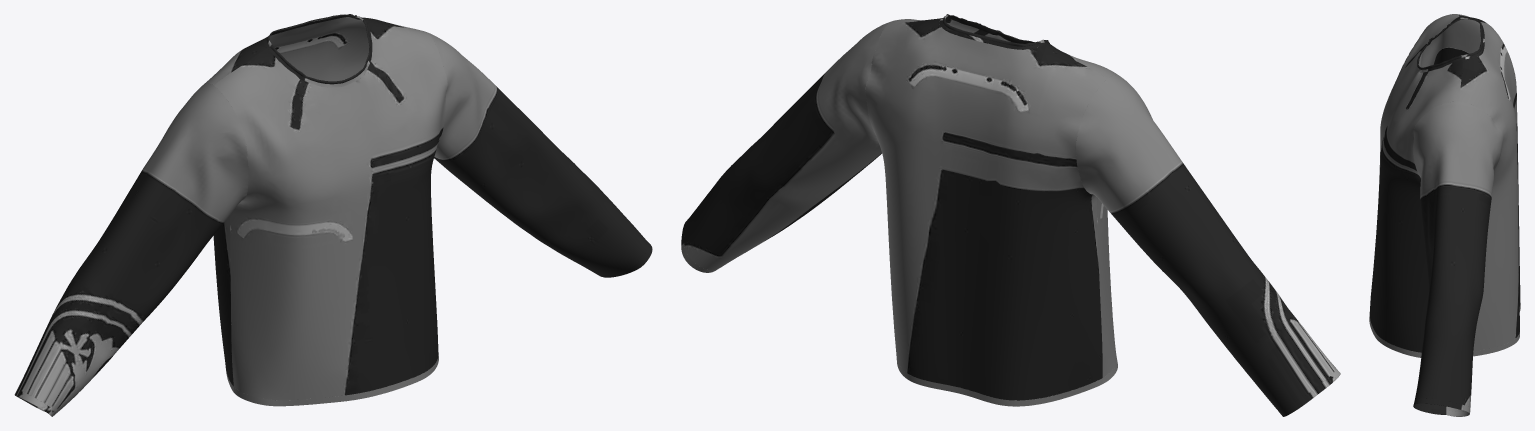
3 views of the same model, side by side, from view 1: azimuth 30°, elevation 25°; view 2: azimuth 150°, elevation 25°; view 3: azimuth 270°, elevation 25° (orthographic). The views are drawn at different scales.
Parts seen in each view (by area): view 1: cloth_parent.006; view 2: cloth_parent.006; view 3: cloth_parent.006.
Part boxes in pixels (x1,y1,x2,y2): cloth_parent.006: [14, 14, 652, 416]; cloth_parent.006: [681, 14, 1340, 416]; cloth_parent.006: [1369, 14, 1520, 416].
Size of the model in its own units: 1.13 by 0.5746 by 0.2745.
Materials: 1 (1 with a texture image).
